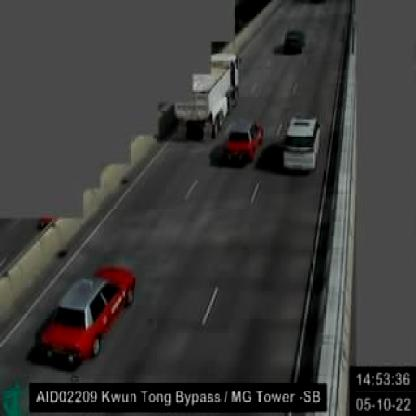Car: (38, 269, 132, 362), (281, 118, 321, 173), (226, 118, 262, 165), (282, 29, 304, 54)
Truck: (174, 52, 238, 140)
